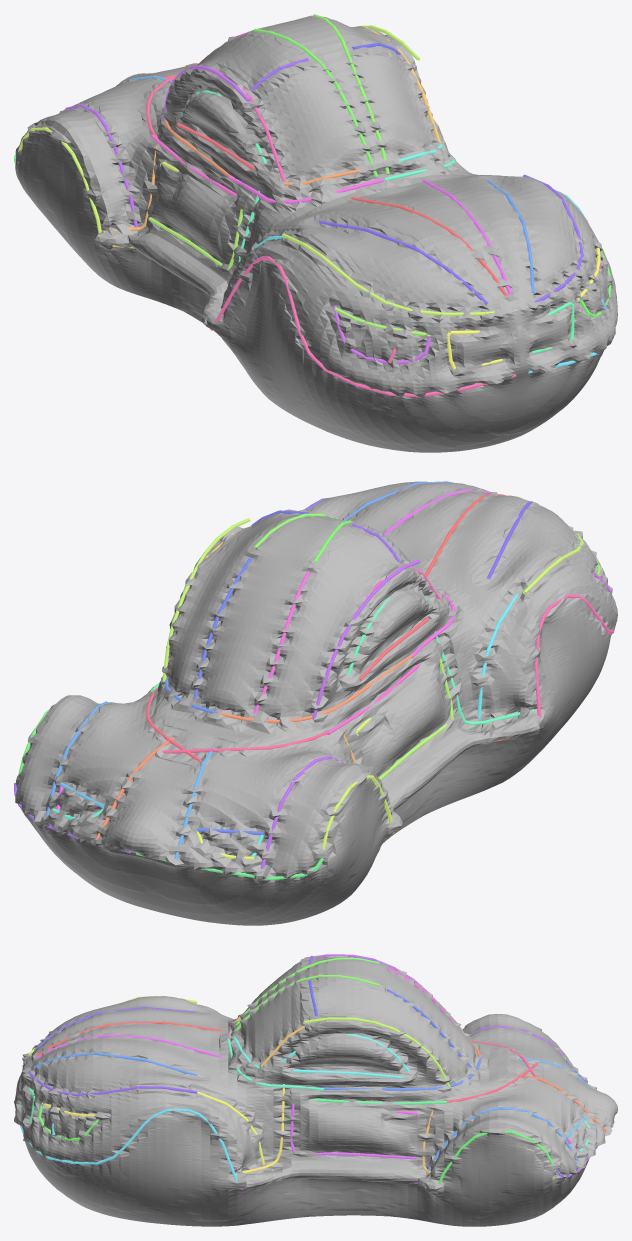
The model's file is author1_car.gltf.
3 views of the same model, one above another, from view 1: azimuth 30°, elevation 25°; view 2: azimuth 150°, elevation 25°; view 3: azimuth 270°, elevation 25° (orthographic). The views are drawn at different scales.
Size of the model in its own units: 0.4331 by 0.3454 by 0.8795.
